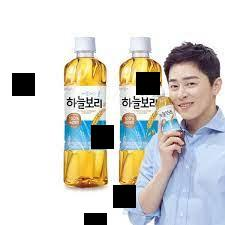haneulbori: (61, 38, 109, 190)
